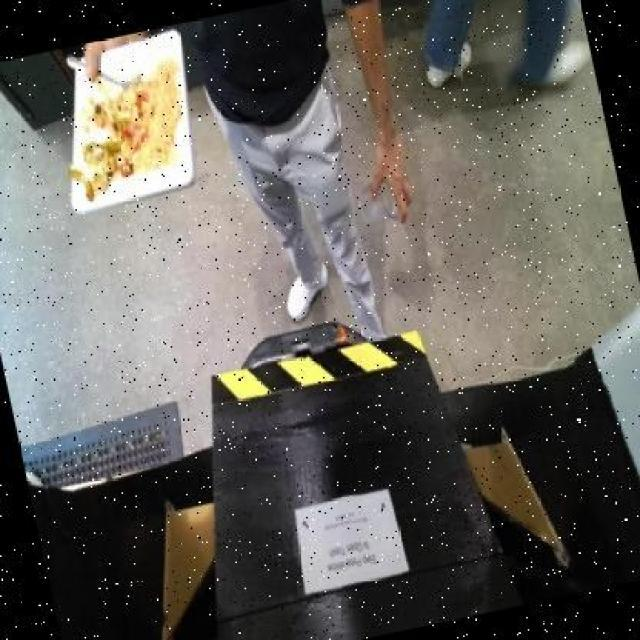Anorganik: (36, 24, 210, 216), (69, 54, 128, 92)
Organik: (112, 59, 196, 171)
